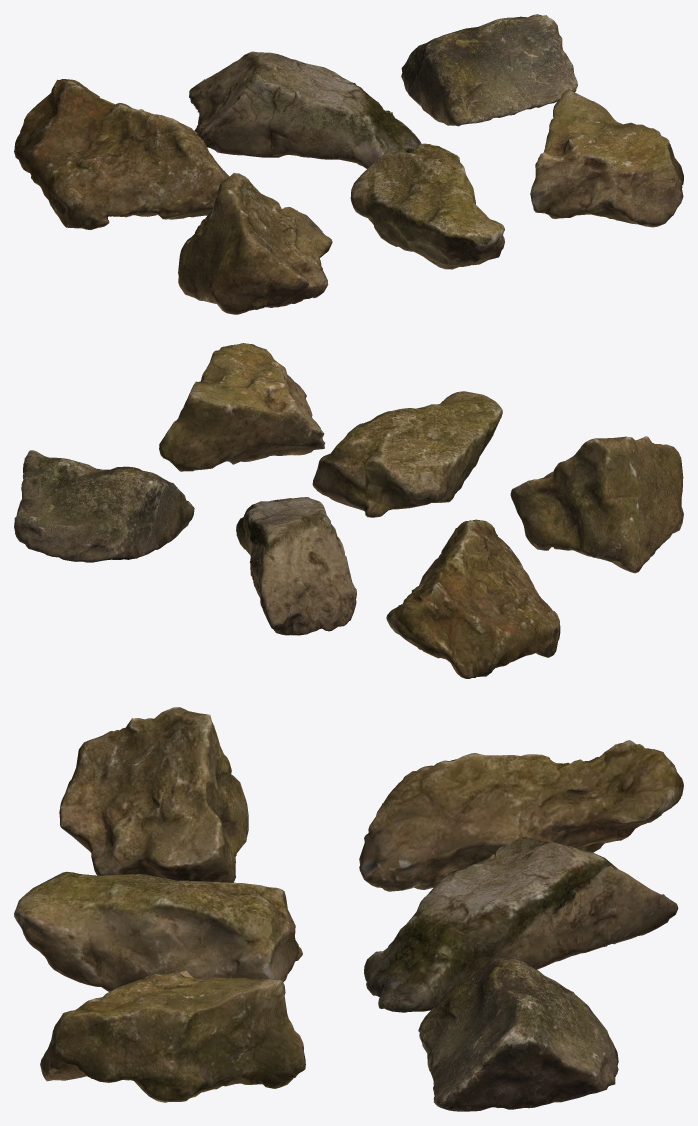
Rendered from rock-moss-set-01.glb.
3 renders of one model, top to bottom at view 1: azimuth 30°, elevation 25°; view 2: azimuth 150°, elevation 25°; view 3: azimuth 270°, elevation 25°, orthographic. The views are drawn at different scales.
Parts seen in each view (by area): view 1: rock_moss_set_01_rock01; view 2: rock_moss_set_01_rock01; view 3: rock_moss_set_01_rock01.
Boxes of the visible parts, left/top/right/bottom form: rock_moss_set_01_rock01: left=14, top=14, right=683, bottom=314; rock_moss_set_01_rock01: left=14, top=343, right=683, bottom=678; rock_moss_set_01_rock01: left=14, top=707, right=683, bottom=1111.
Bounding box in the file's own units: 8 × 1.77 × 6.95.
1 material, 1 textured.
